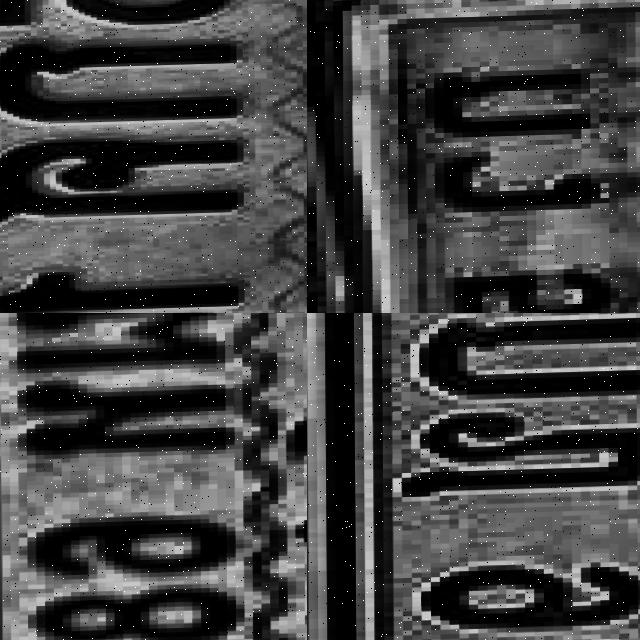license-plate: (307, 0, 640, 313), (0, 313, 307, 640), (334, 313, 640, 640), (0, 0, 307, 313)
